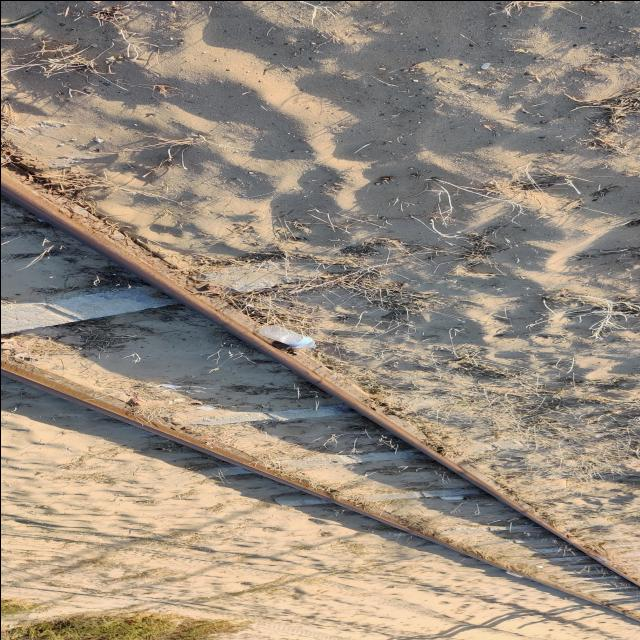Clear plastic bottle: (258, 324, 315, 347)
Unlabeled litter: (439, 494, 462, 499), (194, 404, 215, 409), (160, 383, 179, 386), (535, 564, 542, 567)
